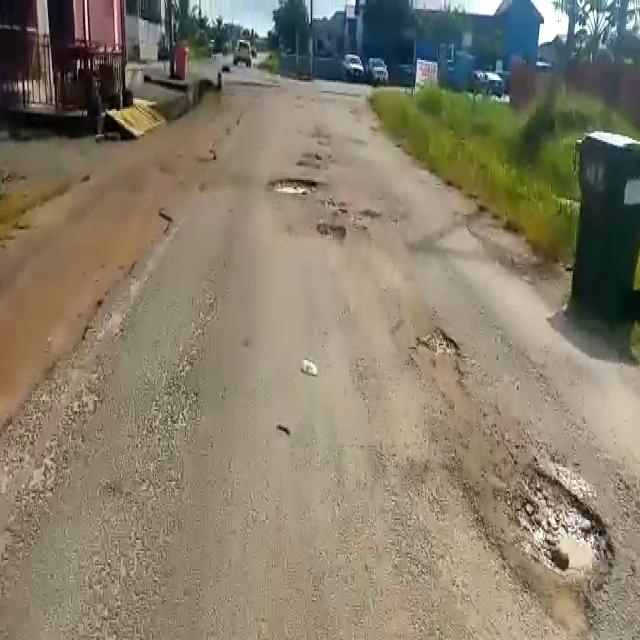Pothole: (507, 452, 619, 613), (408, 326, 474, 416), (266, 174, 318, 195), (316, 222, 350, 242)
